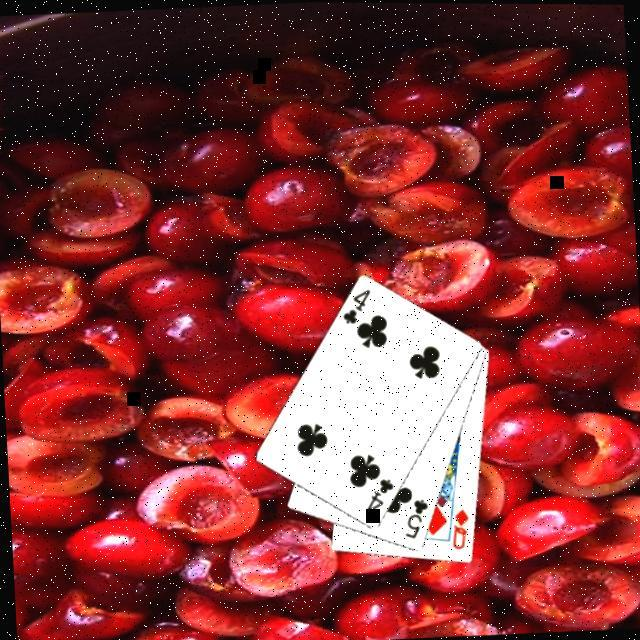4C: (358, 476, 396, 518), (337, 287, 375, 329)
5C: (399, 497, 431, 544)
QD: (446, 507, 472, 554)
